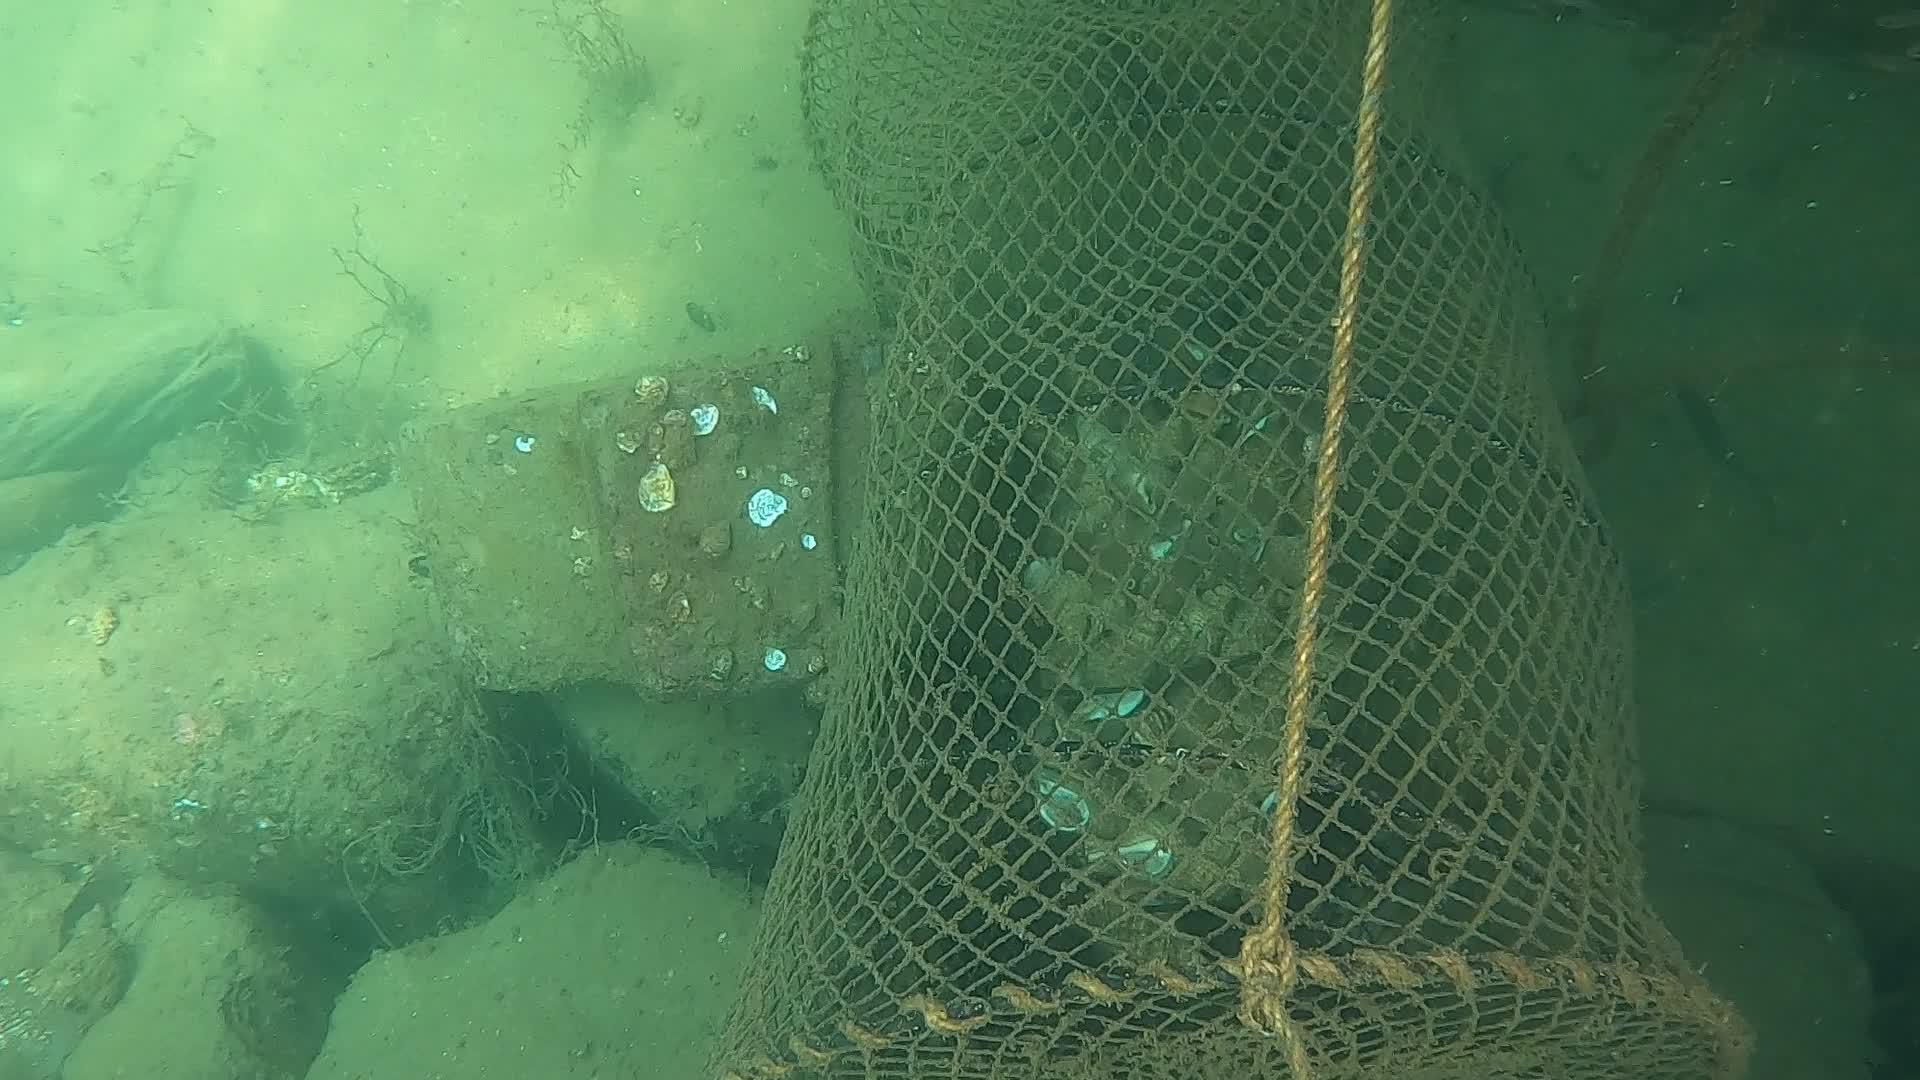rope: (1240, 0, 1387, 942)
spring fish trap: (724, 0, 1756, 1080)
